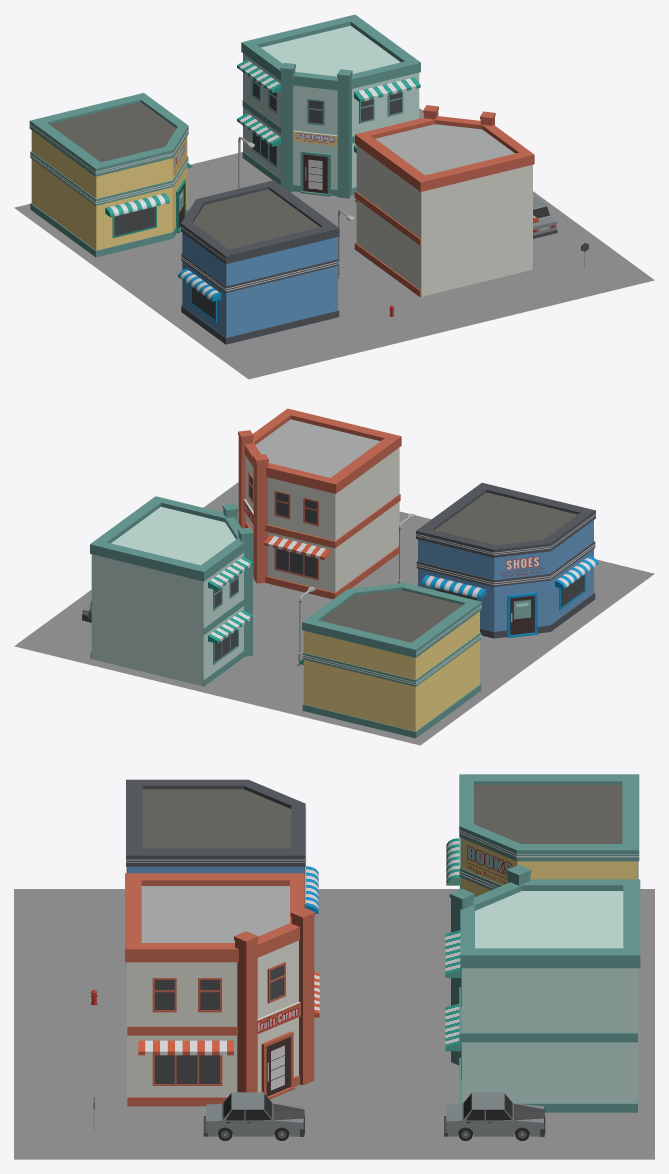
Rendered from remix-commercial-shops.glb.
3 views of the same model, one above another, from view 1: azimuth 30°, elevation 25°; view 2: azimuth 150°, elevation 25°; view 3: azimuth 270°, elevation 25° (orthographic). The views are drawn at different scales.
Visible parts, largest first — view 1: Road Concrete Tile_Plane.010, Building_Fruits Shop_Cube.2119, Building_Clothing_Cube.004, Building_Books Shop_Cube.018, Building_Shoes Shop_Cube.015, Vehicle_Car_Cube.050; view 2: Building_Clothing_Cube.004, Building_Fruits Shop_Cube.2119, Building_Books Shop_Cube.018, Road Concrete Tile_Plane.010, Building_Shoes Shop_Cube.015; view 3: Road Concrete Tile_Plane.010, Building_Clothing_Cube.004, Building_Fruits Shop_Cube.2119, Building_Books Shop_Cube.018, Building_Shoes Shop_Cube.015, Vehicle_Car_Cube.050 (×2).
Boxes of the visible parts, x1,y1,x2,y2 form: Road Concrete Tile_Plane.010: (14,108,654,379); Building_Fruits Shop_Cube.2119: (354,105,538,296); Building_Clothing_Cube.004: (237,14,420,198); Building_Books Shop_Cube.018: (29,93,191,257); Building_Shoes Shop_Cube.015: (178,180,339,344); Vehicle_Car_Cube.050: (533,197,557,238); Building_Clothing_Cube.004: (90,496,253,686); Building_Fruits Shop_Cube.2119: (238,408,401,599); Building_Books Shop_Cube.018: (299,583,481,738); Road Concrete Tile_Plane.010: (14,482,654,745); Building_Shoes Shop_Cube.015: (415,482,598,638); Road Concrete Tile_Plane.010: (14,889,654,1159); Building_Clothing_Cube.004: (445,865,640,1112); Building_Fruits Shop_Cube.2119: (125,873,319,1106); Building_Books Shop_Cube.018: (446,774,639,896); Building_Shoes Shop_Cube.015: (126,779,318,913); Vehicle_Car_Cube.050 (×2): (203,1092,545,1140).
Size of the model in its own units: 40 by 11.61 by 40.
Materials: 8 (8 with a texture image).
